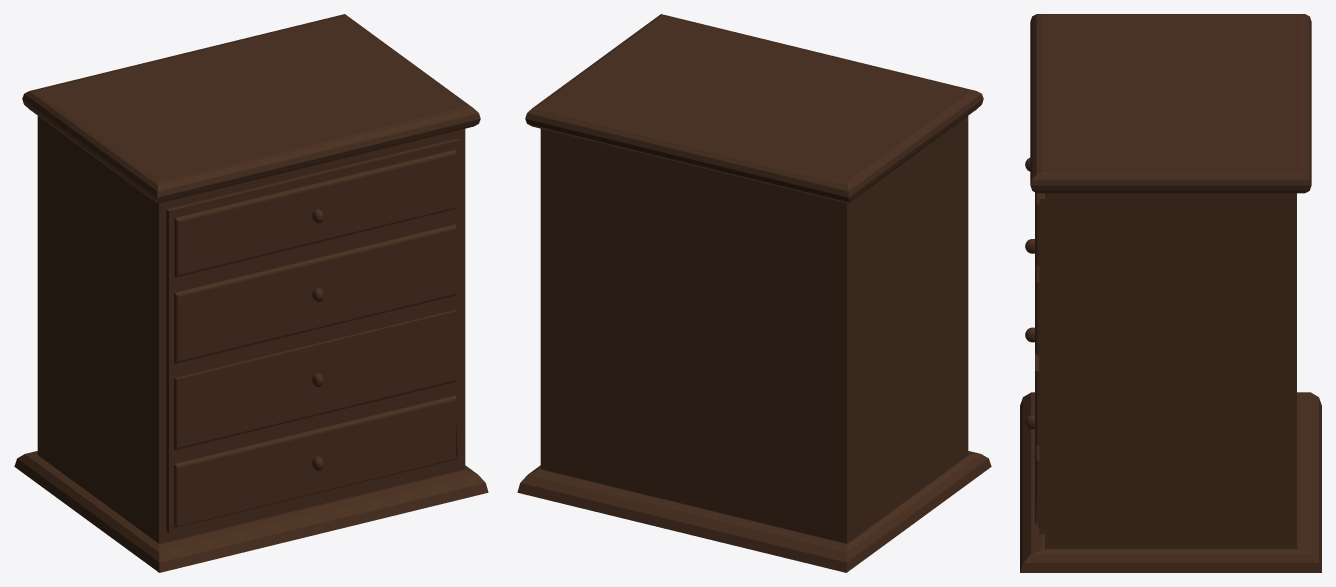
The model's file is Night_Table.fbx.
The picture shows the model from 3 angles, left to right: view 1: azimuth 30°, elevation 25°; view 2: azimuth 150°, elevation 25°; view 3: azimuth 270°, elevation 25°; orthographic projection. The views are drawn at different scales.
Parts seen in each view (by area): view 1: Night_Table; view 2: Night_Table; view 3: Night_Table.
Boxes of the visible parts, bbox=[...] form: Night_Table: bbox=[14, 14, 488, 572]; Night_Table: bbox=[517, 14, 991, 572]; Night_Table: bbox=[1020, 14, 1321, 572].
Bounding box in the file's own units: 0.6585 × 0.7284 × 0.503.
